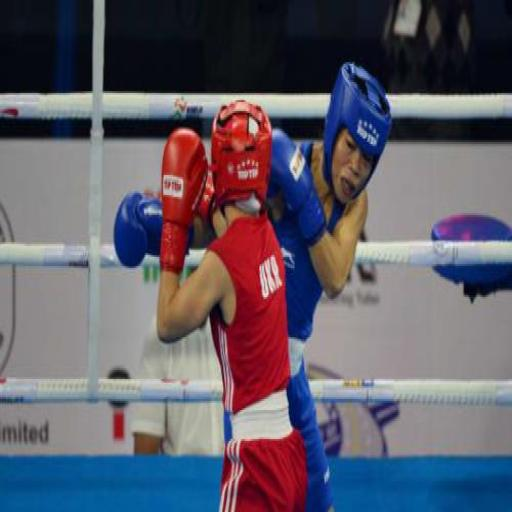boxing: (113, 60, 392, 508)
